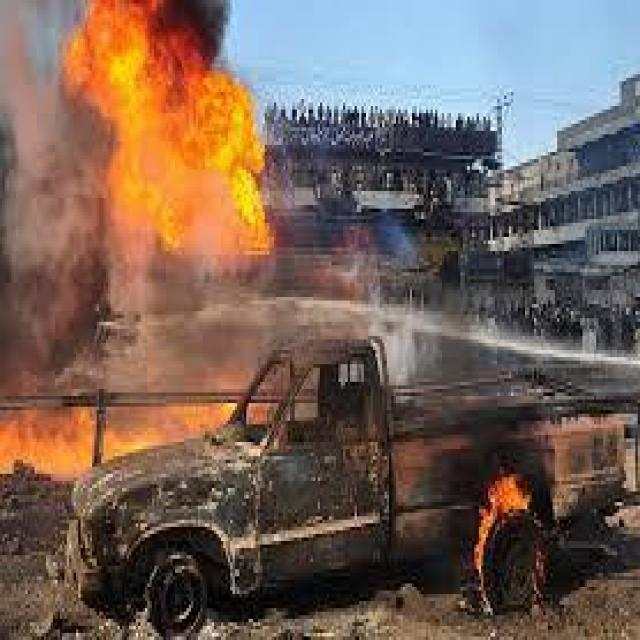fire: (74, 0, 286, 262), (6, 392, 256, 473), (476, 466, 541, 596)
smoke: (0, 60, 108, 354)
